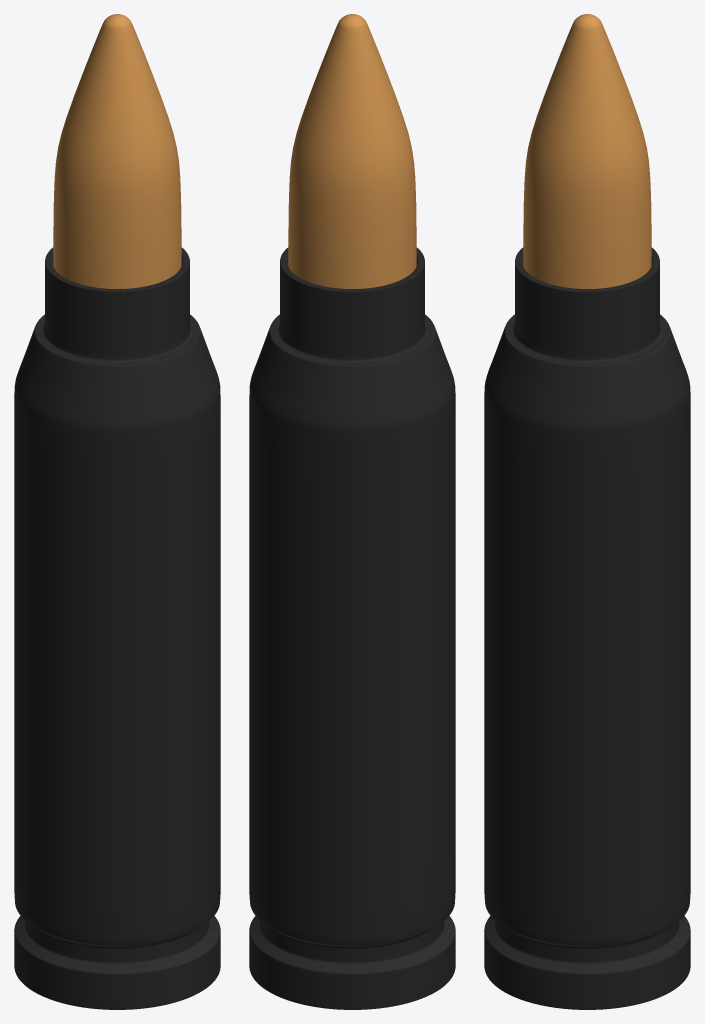
The model's file is Bullet.glb.
3 renders of one model, left to right at view 1: azimuth 30°, elevation 25°; view 2: azimuth 150°, elevation 25°; view 3: azimuth 270°, elevation 25°, orthographic.
Visible parts, largest first — view 1: pCylinder2, polySurface2_pCylinder1; view 2: pCylinder2, polySurface2_pCylinder1; view 3: pCylinder2, polySurface2_pCylinder1.
Boxes of the visible parts, x1,y1,x2,y2 form: pCylinder2: (14,247,220,1009); polySurface2_pCylinder1: (53,14,181,288); pCylinder2: (249,247,455,1009); polySurface2_pCylinder1: (288,14,416,288); pCylinder2: (484,247,690,1009); polySurface2_pCylinder1: (523,14,651,288).
Size of the model in its own units: 0.035 by 0.1781 by 0.035.
